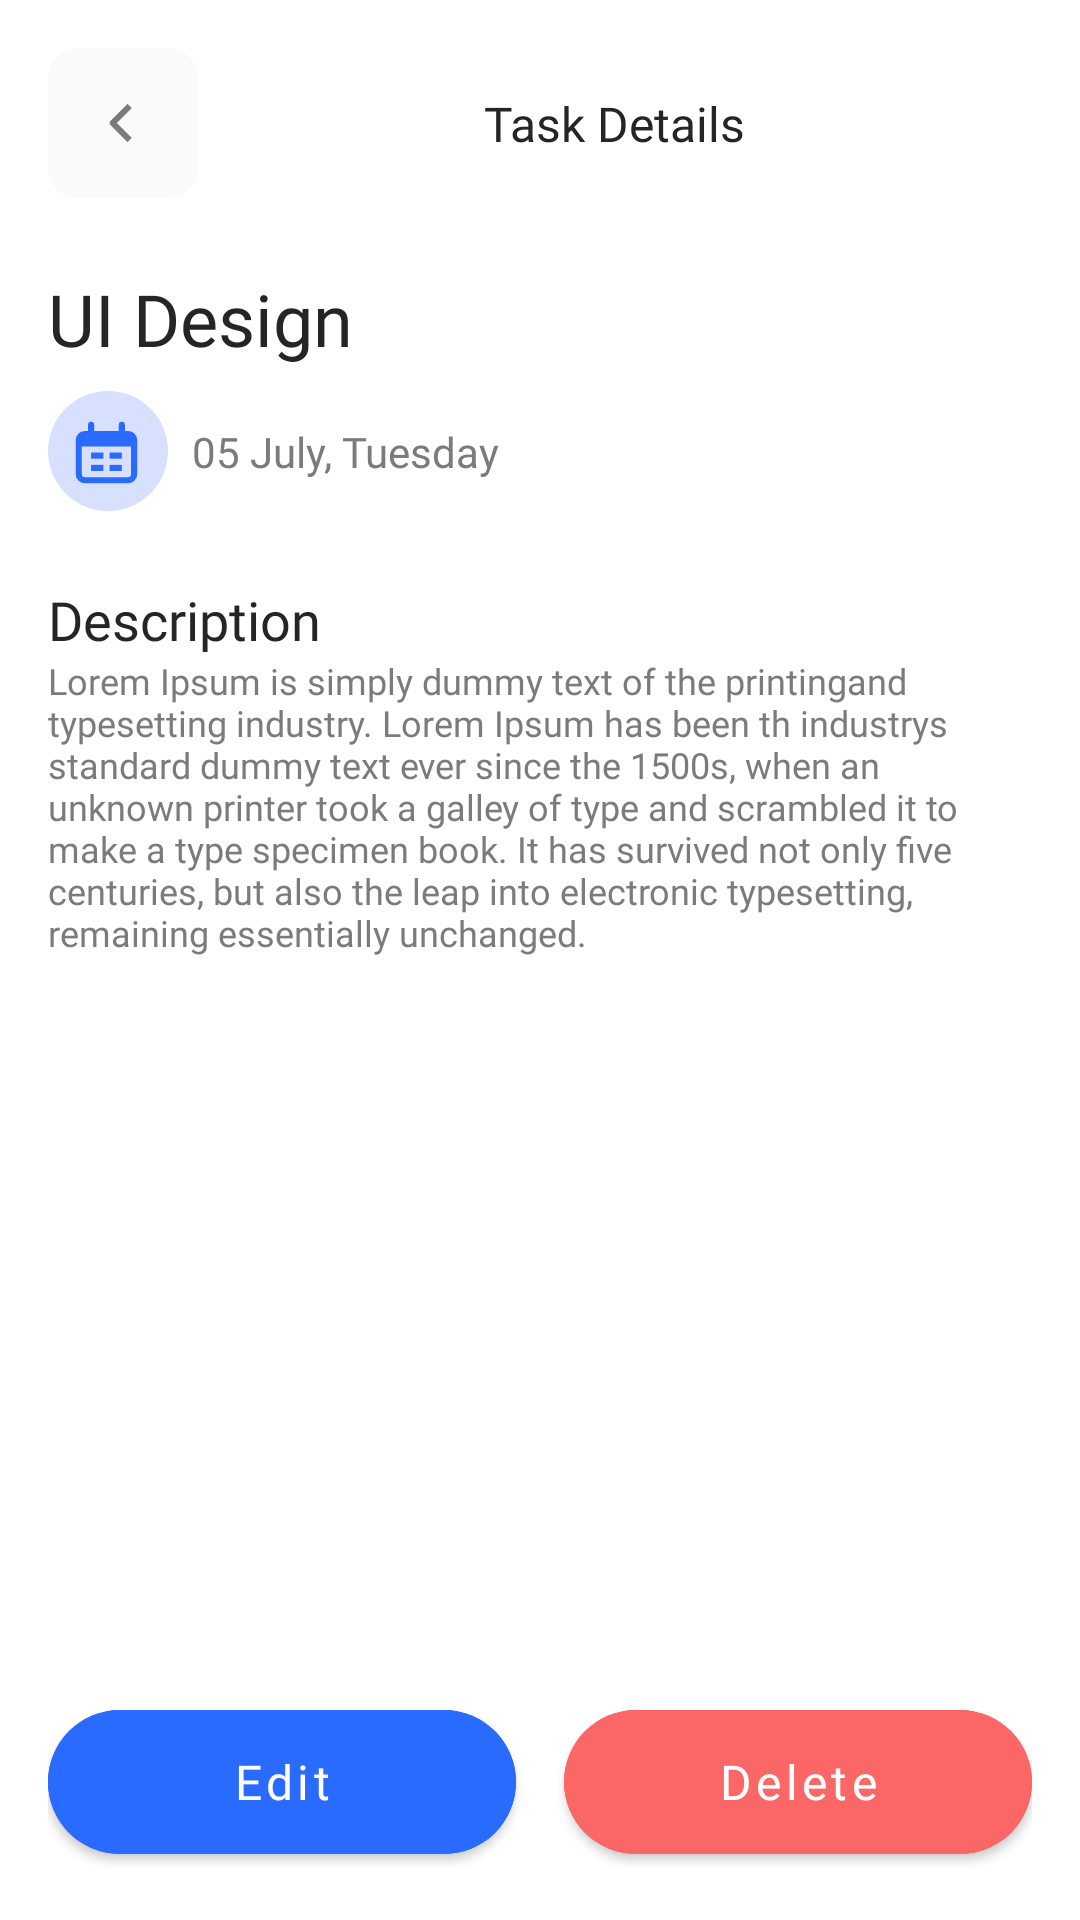

Named icons in this screenshot (1080x1920) and their centers, [x,y]:
back: [120,123]
calender circle: [108,451]
